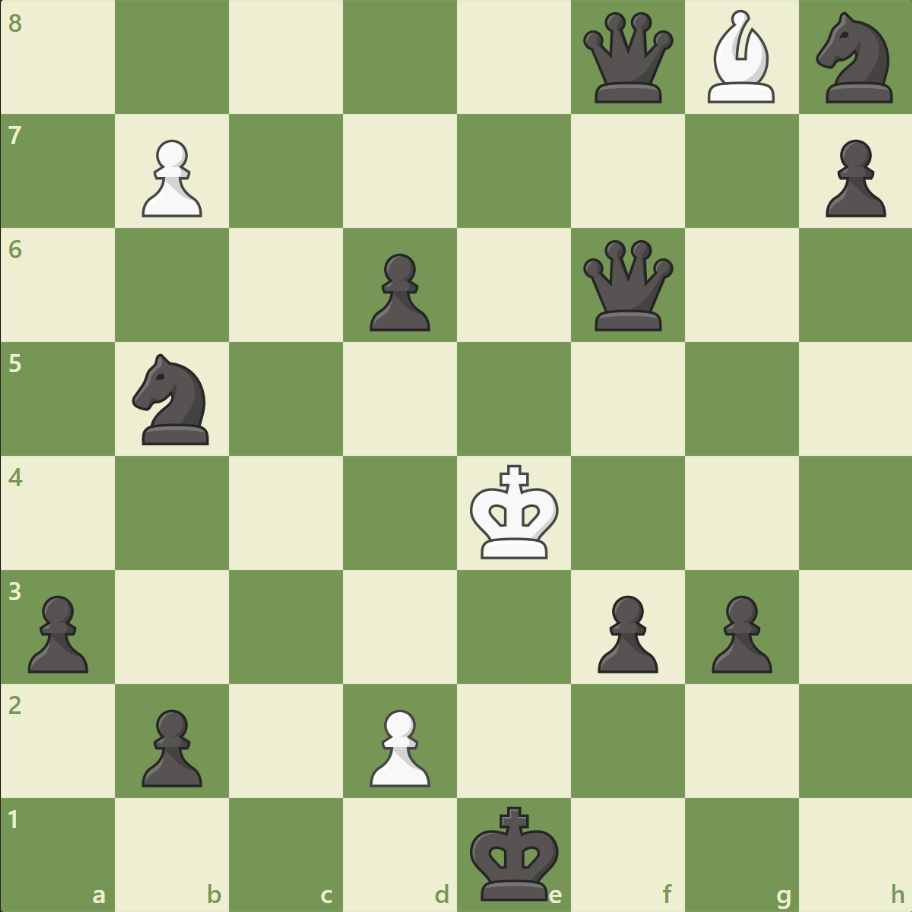B: (698, 6, 782, 109)
K: (465, 458, 565, 566)
P: (133, 132, 208, 223), (361, 700, 435, 791)
k: (465, 798, 565, 906)
n: (124, 348, 222, 450), (806, 7, 903, 110)
p: (20, 586, 95, 677), (701, 586, 776, 677), (133, 700, 208, 791), (815, 132, 889, 223), (361, 246, 435, 337), (588, 586, 662, 677)
q: (578, 9, 677, 108), (578, 236, 677, 335)
